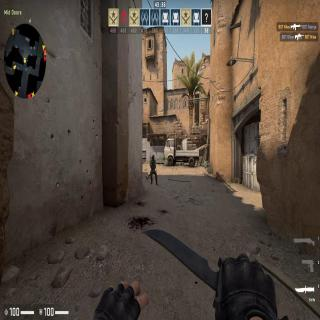CT-Body: (149, 154, 159, 186)
CT-Head: (151, 154, 155, 162)
